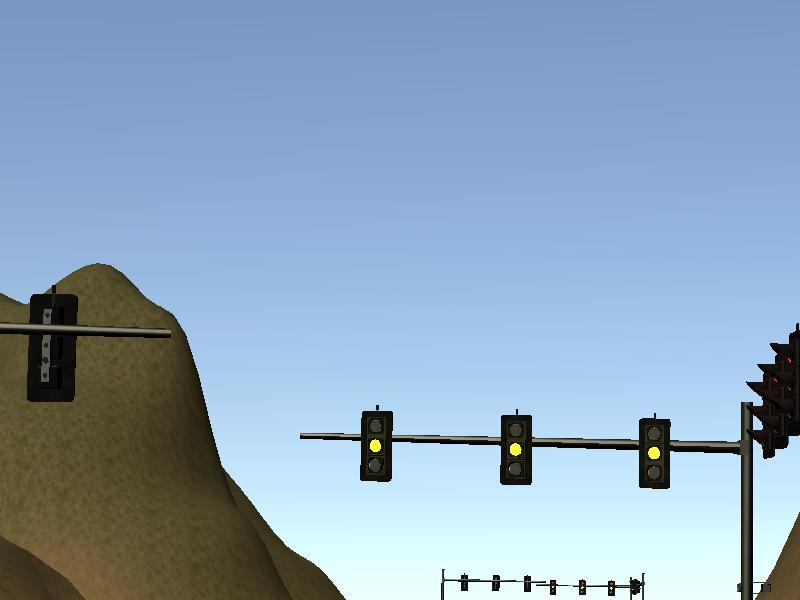Yellow: (360, 411, 391, 483), (638, 417, 669, 489), (500, 414, 531, 486)
